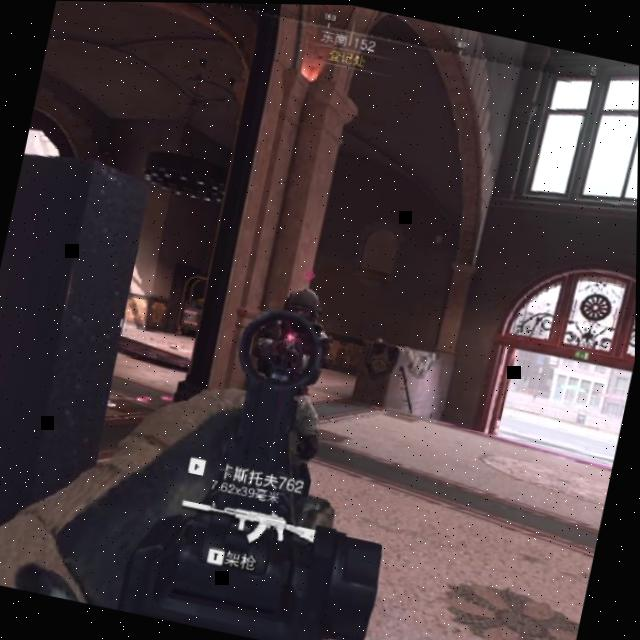MW2_body: (247, 260, 345, 396)
